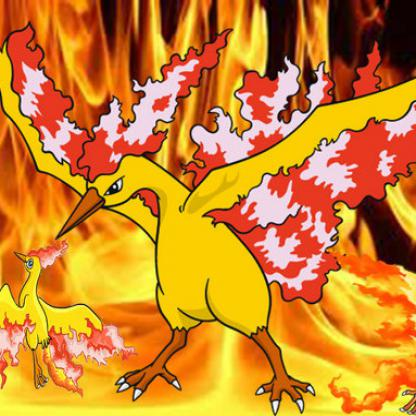Moltres: (1, 39, 416, 416)
